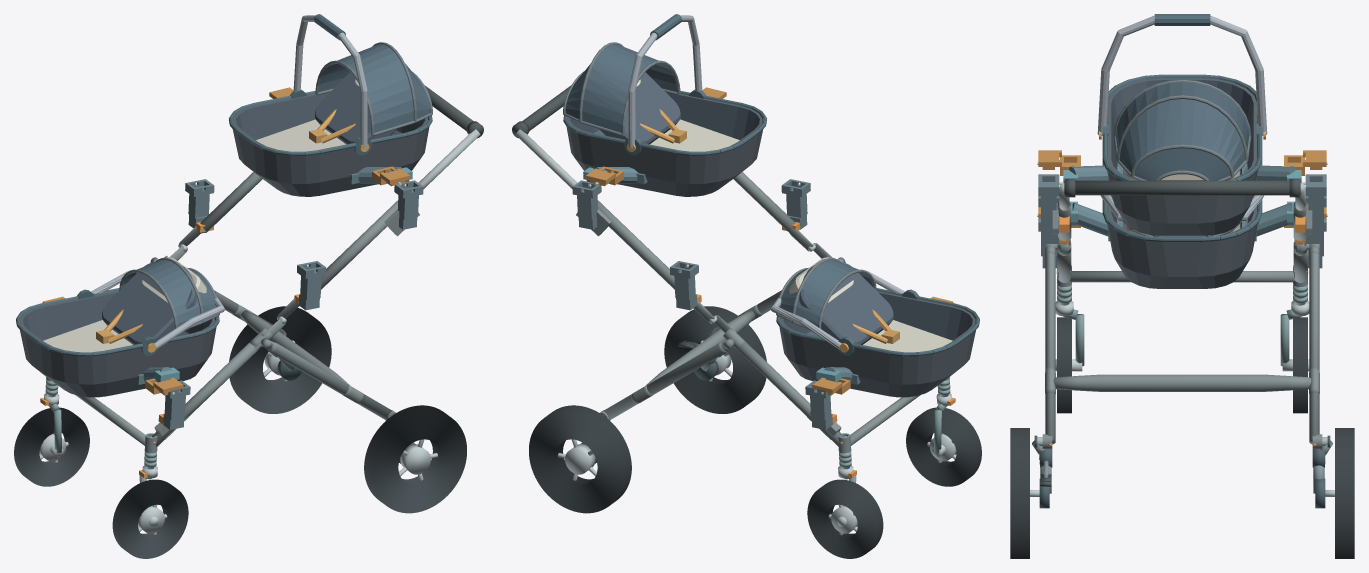
Rendered from D04_w650_state1_wheel_M.glb.
The picture shows the model from 3 angles, left to right: view 1: azimuth 30°, elevation 25°; view 2: azimuth 150°, elevation 25°; view 3: azimuth 270°, elevation 25°; orthographic projection. The views are drawn at different scales.
Parts seen in each view (by area): view 1: D04_Upper, D04_Lower, RL_tire.008, RR_tire.008, FL_tire.008, FR_tire.008, V46_rear_leg_-1.009, main_lower_-1.009, main_upper_-1.009, Universal_Cabin_Receiver_M_-1, V46_rearbar.009, Universal_Cabin_Receiver_H_-1 (+7 smaller); view 2: D04_Upper, D04_Lower, RR_tire.008, RL_tire.008, FR_tire.008, FL_tire.008, V46_rear_leg_1.009, main_lower_1.009, main_upper_1.009, Universal_Cabin_Receiver_M_1, V46_rearbar.009, Universal_Cabin_Receiver_H_1 (+7 smaller); view 3: D04_Upper, D04_Lower, V46_rearbar.009, round_handle.008, RL_tire.008, RR_tire.008, V46_rear_leg_1.009, V46_rear_leg_-1.009, D04_Lower_Mount_L, D04_Upper_Mount_H, front_fixed_round_tube.008, FL_tire.008 (+7 smaller).
Boxes of the visible parts, left/top/right/bottom form: D04_Upper: left=229, top=14, right=432, bottom=196; D04_Lower: left=16, top=257, right=224, bottom=397; RL_tire.008: left=364, top=405, right=466, bottom=513; RR_tire.008: left=229, top=306, right=331, bottom=413; FL_tire.008: left=112, top=479, right=188, bottom=558; FR_tire.008: left=14, top=407, right=89, bottom=486; V46_rear_leg_-1.009: left=269, top=342, right=391, bottom=419; main_lower_-1.009: left=152, top=343, right=260, bottom=446; main_upper_-1.009: left=299, top=200, right=398, bottom=295; Universal_Cabin_Receiver_M_-1: left=297, top=261, right=326, bottom=310; V46_rearbar.009: left=240, top=310, right=350, bottom=385; Universal_Cabin_Receiver_H_-1: left=394, top=180, right=423, bottom=229; D04_Upper: left=563, top=14, right=766, bottom=196; D04_Lower: left=771, top=257, right=979, bottom=397; RR_tire.008: left=529, top=405, right=631, bottom=513; RL_tire.008: left=664, top=306, right=766, bottom=413; FR_tire.008: left=807, top=479, right=883, bottom=558; FL_tire.008: left=906, top=407, right=981, bottom=486; V46_rear_leg_1.009: left=604, top=342, right=726, bottom=419; main_lower_1.009: left=735, top=343, right=843, bottom=446; main_upper_1.009: left=597, top=200, right=696, bottom=295; Universal_Cabin_Receiver_M_1: left=669, top=261, right=698, bottom=310; V46_rearbar.009: left=645, top=310, right=755, bottom=385; Universal_Cabin_Receiver_H_1: left=572, top=180, right=601, bottom=229; D04_Upper: left=1097, top=14, right=1267, bottom=235; D04_Lower: left=1100, top=160, right=1263, bottom=288; V46_rearbar.009: left=1053, top=374, right=1311, bottom=391; round_handle.008: left=1064, top=180, right=1300, bottom=195; RL_tire.008: left=1010, top=428, right=1029, bottom=558; RR_tire.008: left=1335, top=428, right=1354, bottom=558; V46_rear_leg_1.009: left=1309, top=251, right=1319, bottom=444; V46_rear_leg_-1.009: left=1045, top=251, right=1055, bottom=444; D04_Lower_Mount_L: left=1070, top=201, right=1294, bottom=241; D04_Upper_Mount_H: left=1059, top=163, right=1305, bottom=184; front_fixed_round_tube.008: left=1070, top=271, right=1294, bottom=282; FL_tire.008: left=1057, top=317, right=1071, bottom=413.
Size of the model in its own units: 1.28 by 1.33 by 0.7871.
